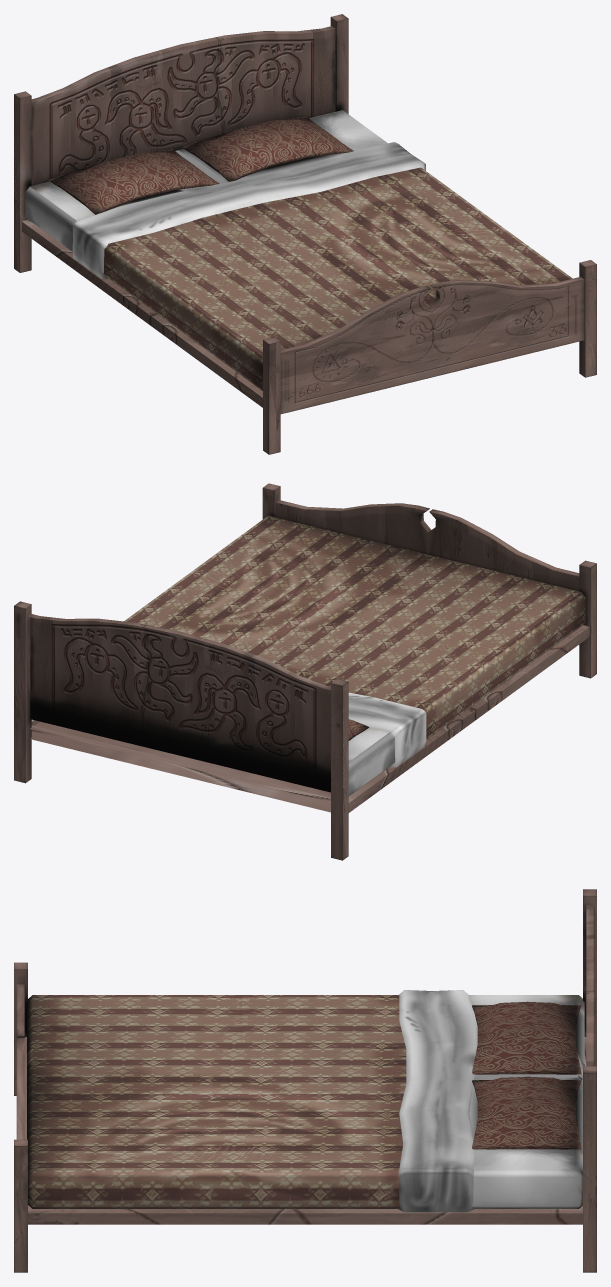
File: doubleBed.fbx
3 views of the same model, one above another, from view 1: azimuth 30°, elevation 25°; view 2: azimuth 150°, elevation 25°; view 3: azimuth 270°, elevation 25° (orthographic). The views are drawn at different scales.
Parts seen in each view (by area): view 1: polySurface1757; view 2: polySurface1757; view 3: polySurface1757.
Part boxes in pixels (x1,y1,x2,y2): polySurface1757: [14, 14, 596, 454]; polySurface1757: [14, 483, 596, 860]; polySurface1757: [14, 889, 596, 1272].
Bounding box in the file's own units: 198 × 106 × 265.
